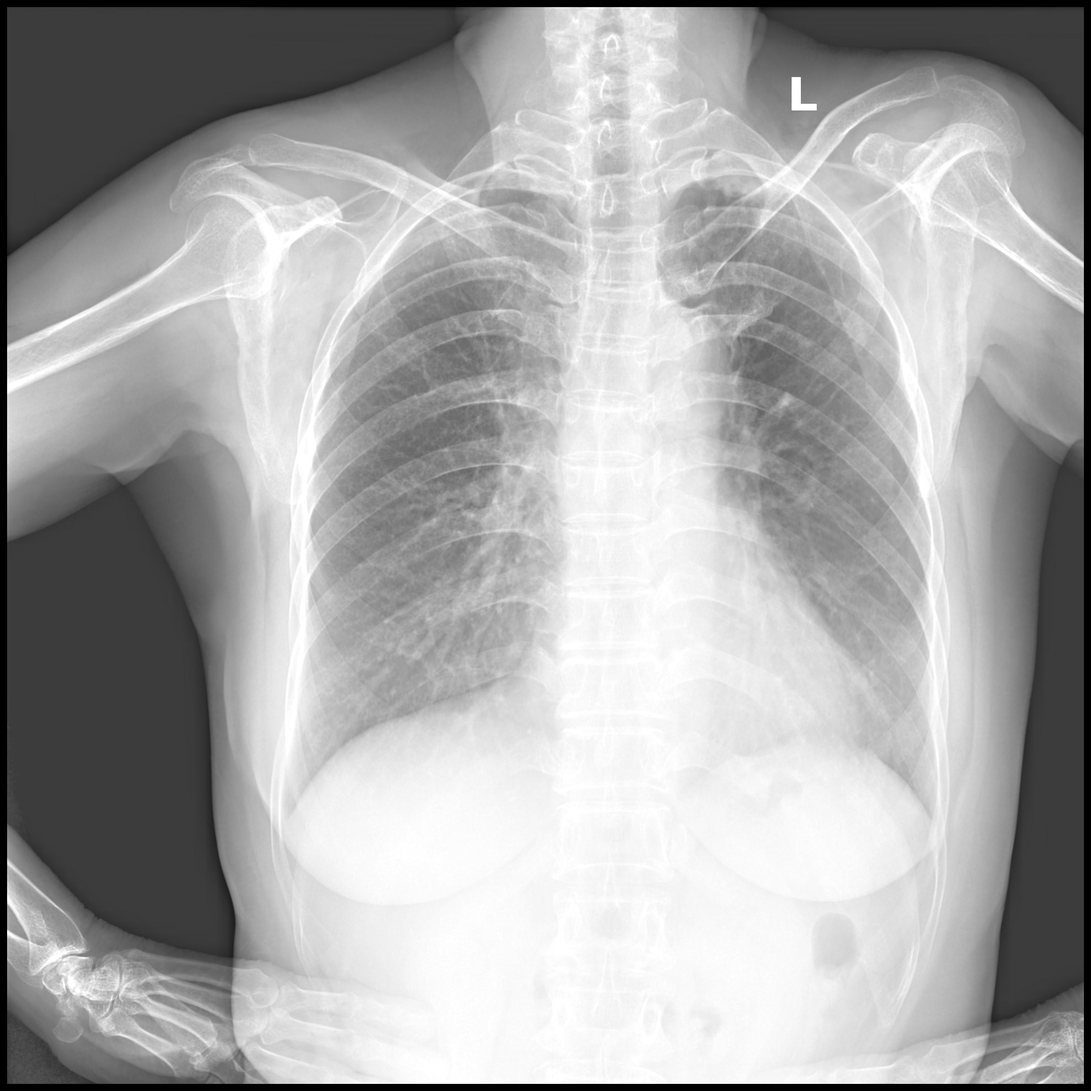Aortic enlargement: (643, 301, 732, 418)
Pleural thickening: (716, 169, 796, 197)
Pulmonary fibrosis: (837, 292, 877, 347)
